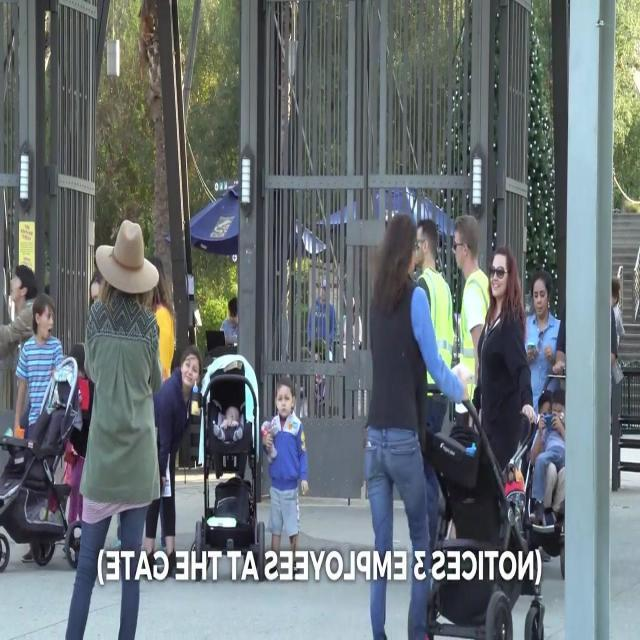reflective_jacket: (404, 261, 460, 415), (454, 263, 500, 417)
